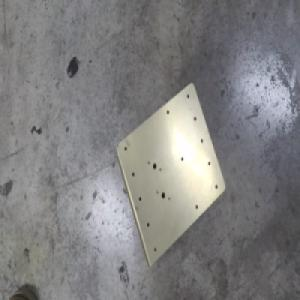MetalSheet: (113, 80, 227, 269)
